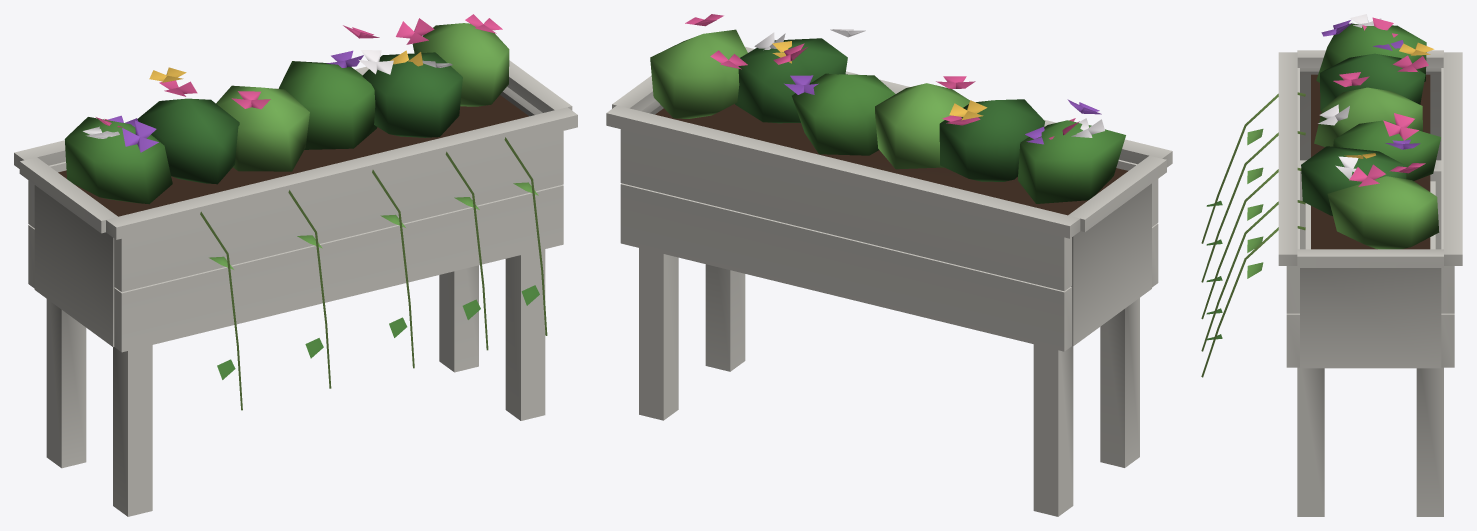
Rendered from flowerBox.far.glb.
3 views of the same model, side by side, from view 1: azimuth 30°, elevation 25°; view 2: azimuth 150°, elevation 25°; view 3: azimuth 270°, elevation 25° (orthographic). The views are drawn at different scales.
Parts seen in each view (by area): view 1: flowerBox; view 2: flowerBox; view 3: flowerBox.
Part boxes in pixels (bbox=[...]): flowerBox: bbox=[14, 14, 577, 516]; flowerBox: bbox=[606, 14, 1172, 516]; flowerBox: bbox=[1201, 14, 1462, 516].
Size of the model in its own units: 0.945 by 0.732 by 0.505.
